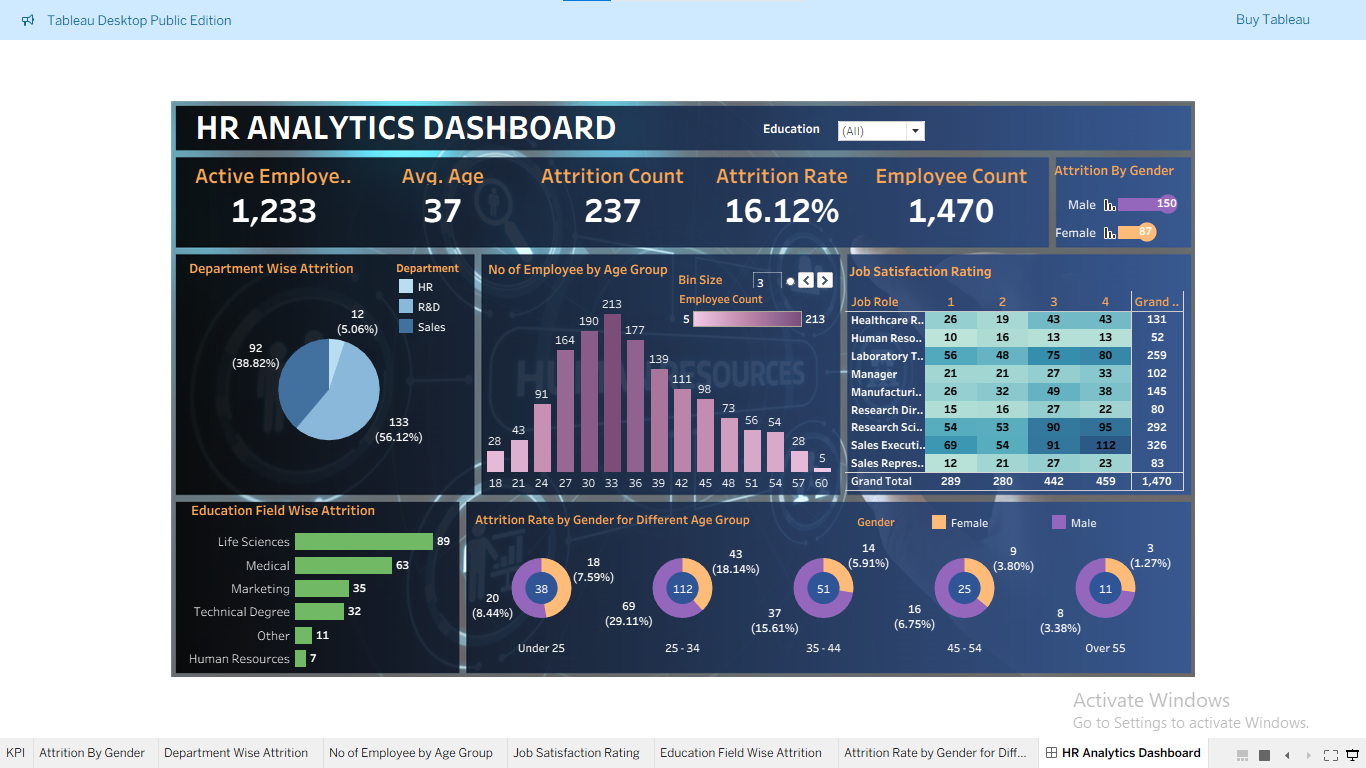

This screenshot's page, from the dashboard's own definition file:
{"tool":"tableau","page":{"name":"HR Analytics Dashboard","canvas":[1050,600],"ordinal":0},"visuals":[{"type":"image","param":"Image/HR background.png","box":[8,8,1034,584]},{"type":"text","box":[35,15.2,601,43.6]},{"type":"filter","title":"KPI","param":"[federated.1iwk26f0viwhcb15l9n5d0d9vk5l].[none:Education:nk]","box":[605,29.4,165,26.4]},{"type":"worksheet","title":"Attrition By Gender","mark":"Automatic","rows":["Gender"],"cols":["Calculation_573927534744342528","Calculation_573927534744342528"],"box":[892,67.9,130,89.2]},{"type":"worksheet","title":"KPI","mark":"Automatic","box":[31,76,847,69.9]},{"type":"worksheet","title":"Department Wise Attrition","mark":"Pie","box":[27,166.2,288,236.1]},{"type":"worksheet","title":"No of Employee by Age Group","mark":"Automatic","rows":["Employee Count"],"cols":["Age (bin)"],"box":[326,167.2,350,236.1]},{"type":"worksheet","title":"Job Satisfaction Rating","mark":"Square","rows":["Job Role"],"cols":["Job Satisfaction"],"box":[687,169.3,339,233.1]},{"type":"legend","title":"Department Wise Attrition","param":"[federated.1iwk26f0viwhcb15l9n5d0d9vk5l].[none:Department:nk]","box":[238,171.3,76,91.2]},{"type":"parameter","param":"[Parameters].[Parameter 1]","box":[520,180.4,158,19.3]},{"type":"legend","title":"No of Employee by Age Group","param":"[federated.1iwk26f0viwhcb15l9n5d0d9vk5l].[sum:Employee Count:qk]","box":[521,201.7,151,46.6]},{"type":"worksheet","title":"Education Field Wise Attrition","mark":"Automatic","rows":["Education Field"],"cols":["Calculation_573927534744342528"],"box":[29,408.4,275,173.3]},{"type":"worksheet","title":"Attrition Rate by Gender for Different Age Group","mark":"Pie","rows":["Calculation_573927534800289796","Calculation_573927534800289796"],"cols":["CF_age band"],"box":[313,417.6,705,162.2]},{"type":"legend","title":"Attrition Rate by Gender for Different Age Group","param":"[federated.1iwk26f0viwhcb15l9n5d0d9vk5l].[none:Gender:nk]","box":[699,422.6,318,20.3]}]}

Visuals, with their boxes on the page's 1050x600 design canvas (x1, y1, x2, y2). These are canvas units, not pixel positions in the 1366x768 screenshot, which may show the page scaled, cropped or inside an application window:
image: bbox(8, 8, 1042, 592)
text: bbox(35, 15, 636, 59)
"KPI" filter: bbox(605, 29, 770, 56)
"Attrition By Gender" worksheet: bbox(892, 68, 1022, 157)
"KPI" worksheet: bbox(31, 76, 878, 146)
"Department Wise Attrition" worksheet (Pie marks): bbox(27, 166, 315, 402)
"No of Employee by Age Group" worksheet: bbox(326, 167, 676, 403)
"Job Satisfaction Rating" worksheet (Square marks): bbox(687, 169, 1026, 402)
"Department Wise Attrition" legend: bbox(238, 171, 314, 262)
parameter: bbox(520, 180, 678, 200)
"No of Employee by Age Group" legend: bbox(521, 202, 672, 248)
"Education Field Wise Attrition" worksheet: bbox(29, 408, 304, 582)
"Attrition Rate by Gender for Different Age Group" worksheet (Pie marks): bbox(313, 418, 1018, 580)
"Attrition Rate by Gender for Different Age Group" legend: bbox(699, 423, 1017, 443)
